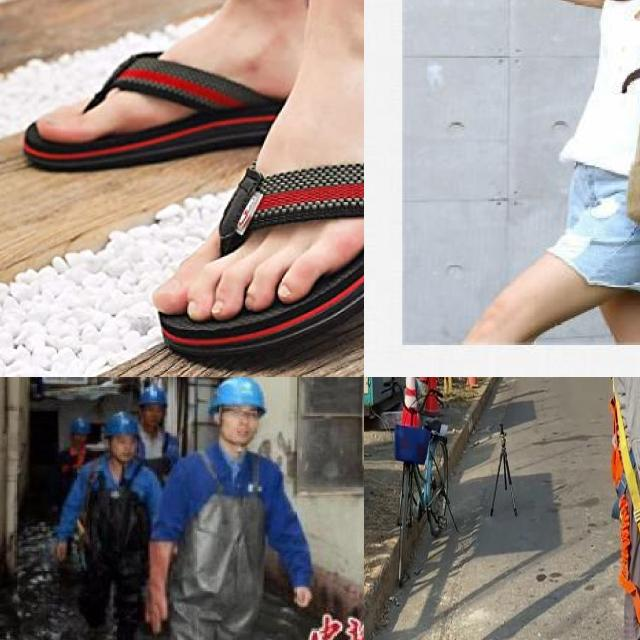Harness: (610, 395, 640, 538), (619, 495, 640, 625)
Sandals: (158, 0, 364, 356), (25, 56, 276, 176)
face_nomask: (220, 409, 260, 441), (114, 434, 140, 459), (145, 407, 166, 428)
glasses: (220, 404, 264, 424)
hand_glove: (139, 586, 175, 634)
hand_noglove: (291, 586, 316, 608), (51, 540, 70, 560)
head_helmet: (204, 377, 269, 418), (102, 410, 142, 441), (135, 382, 170, 407), (70, 416, 90, 436)
person: (517, 0, 640, 371), (170, 377, 282, 640), (78, 416, 160, 640)
